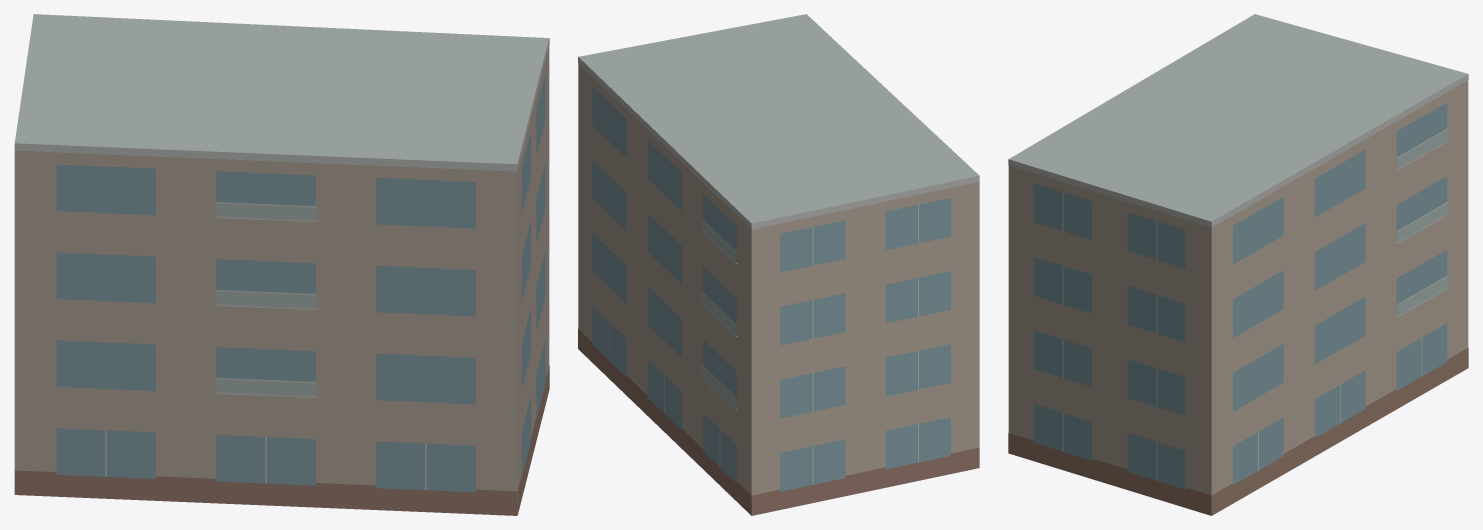
The model's file is survey-upis-33005444.glb.
The picture shows the model from 3 angles, left to right: view 1: azimuth 30°, elevation 25°; view 2: azimuth 150°, elevation 25°; view 3: azimuth 270°, elevation 25°; orthographic projection. The views are drawn at different scales.
Visible parts, largest first — view 1: survey-upis-33005444.tmp; view 2: survey-upis-33005444.tmp; view 3: survey-upis-33005444.tmp.
Part boxes in pixels (x1,y1,x2,y2): survey-upis-33005444.tmp: (14, 14, 549, 515); survey-upis-33005444.tmp: (578, 14, 979, 515); survey-upis-33005444.tmp: (1008, 14, 1468, 515).
Size of the model in its own units: 17.73 by 11.7 by 16.59.
